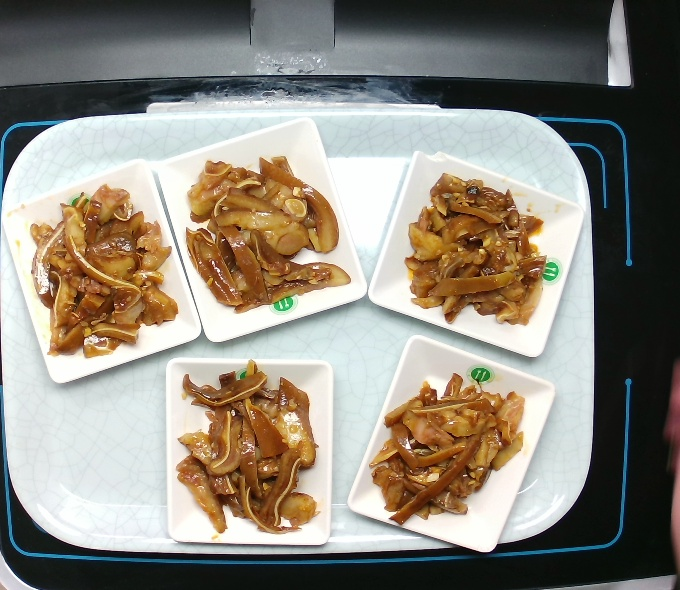wcq-ZhuErDuo: (15, 180, 178, 365), (183, 153, 357, 320), (168, 359, 324, 542), (371, 363, 532, 534), (400, 168, 556, 336)
